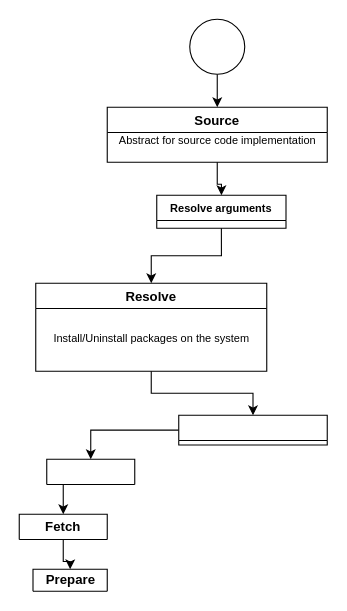
Image size: 347x611. Some labels were removed from this diagram. The shapes that lost their labels are listed below. From the top down, each one's centre as x and y in pixels, then its label:
At [217,46]: "Zernit".
At [252,429]: "Process metadata".
At [90,471]: "Phases".
